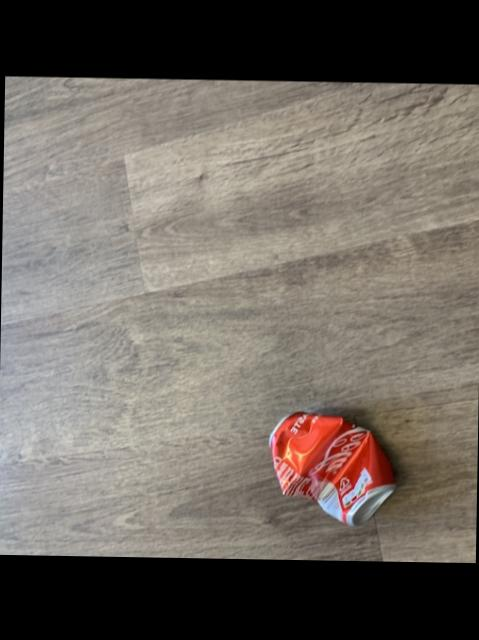metal: (269, 414, 393, 528)
